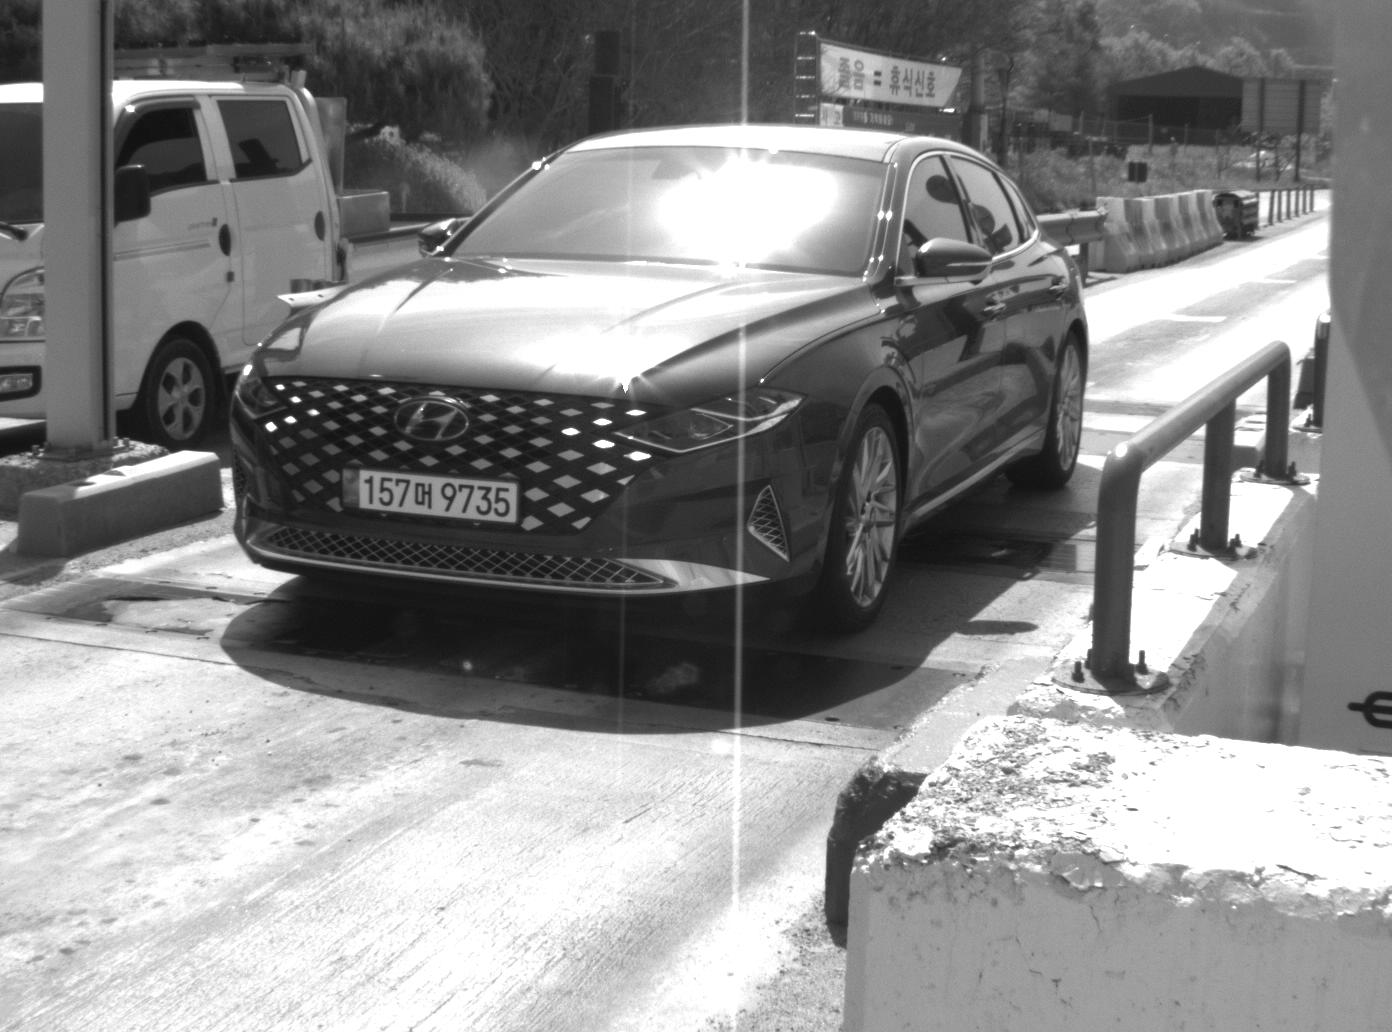car: (228, 125, 1093, 643), (1, 80, 452, 451)
plate: (338, 465, 523, 528)
